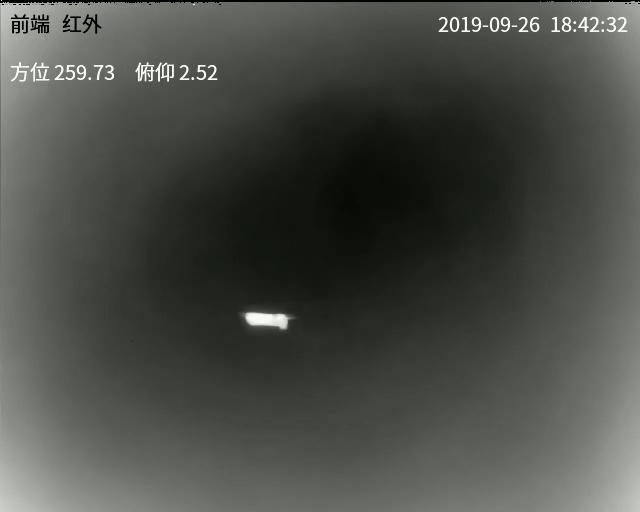uav: (234, 306, 296, 332)
